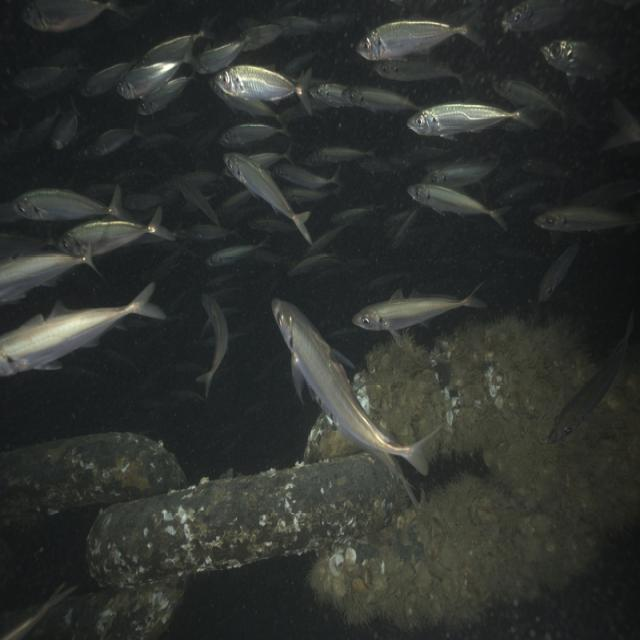ChainLink: (88, 453, 399, 587), (310, 475, 555, 629), (355, 318, 590, 459), (486, 376, 640, 546), (0, 432, 186, 514), (25, 576, 188, 638), (306, 415, 350, 462), (0, 605, 40, 637)
